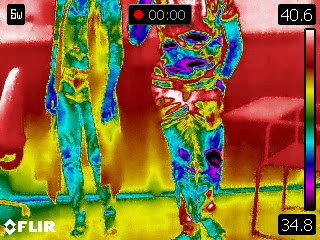human: (129, 1, 249, 240), (44, 1, 127, 240)
